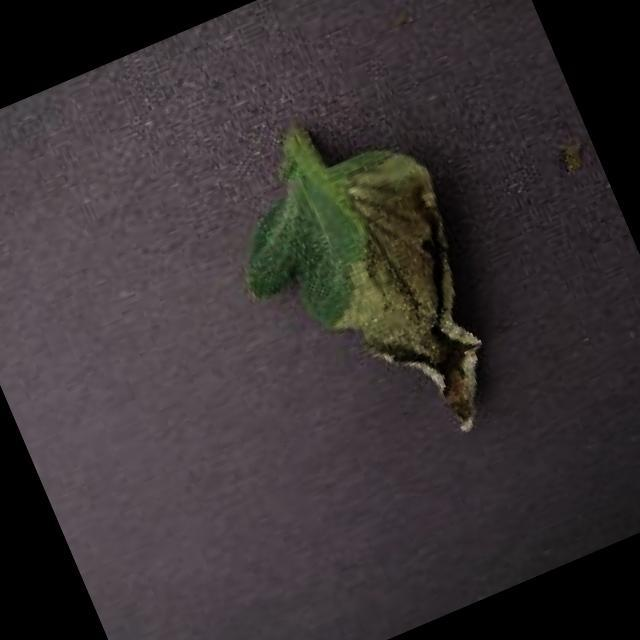Tomato late blight leaf: (216, 125, 530, 495)
